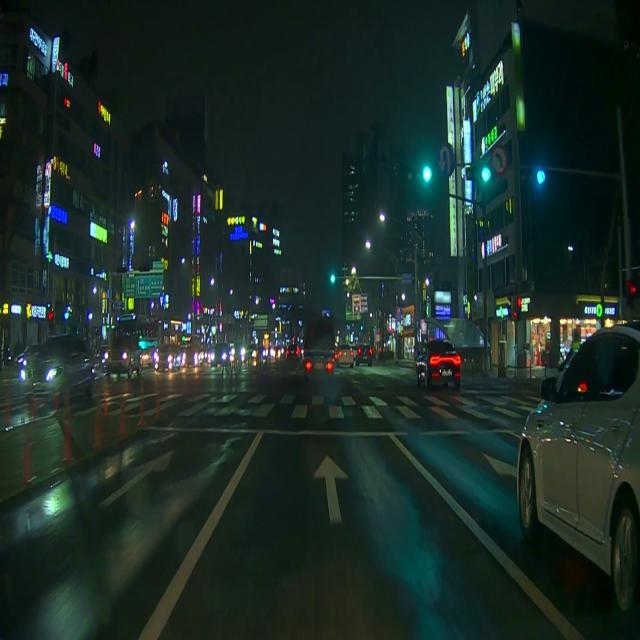Green Light: (422, 164, 432, 183), (481, 165, 491, 183), (536, 168, 546, 186)
